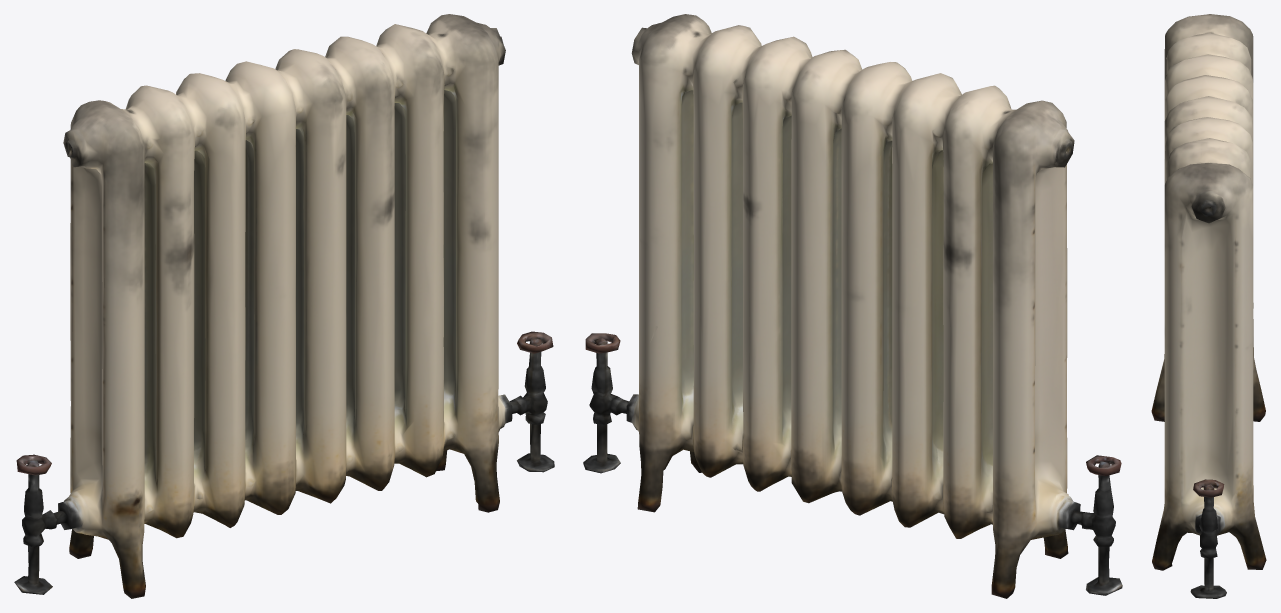
The model's file is radiator_export.fbx.
The picture shows the model from 3 angles, left to right: view 1: azimuth 30°, elevation 25°; view 2: azimuth 150°, elevation 25°; view 3: azimuth 270°, elevation 25°; orthographic projection. The views are drawn at different scales.
Parts seen in each view (by area): view 1: radiator_low; view 2: radiator_low; view 3: radiator_low.
Boxes of the visible parts, box(x1,y1,x2,y2) form: radiator_low: box(14, 14, 554, 598); radiator_low: box(583, 14, 1122, 598); radiator_low: box(1151, 14, 1266, 598).
Size of the model in its own units: 2 by 1.69 by 0.4357.
1 material, 1 textured.
